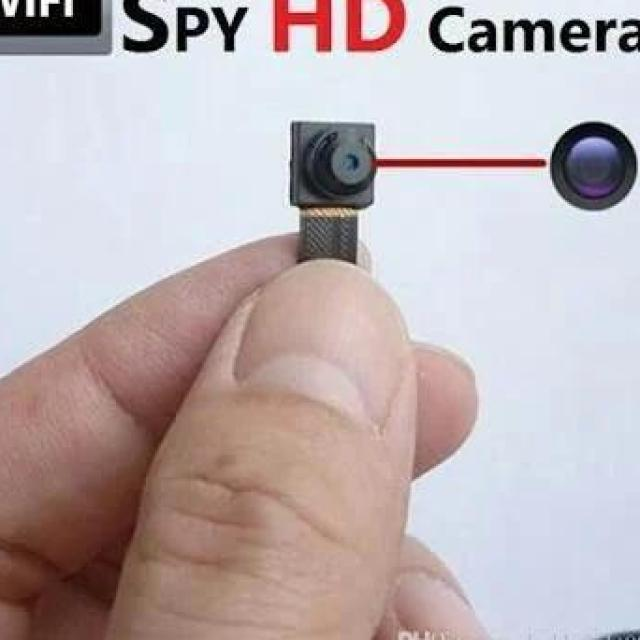hidden camera: (320, 130, 378, 199)
